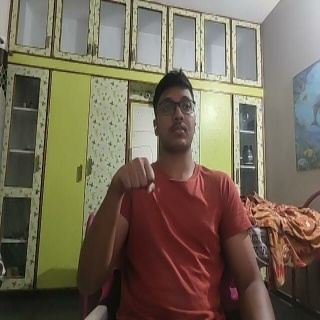Face: (152, 69, 199, 156)
Yes: (109, 155, 158, 201)
